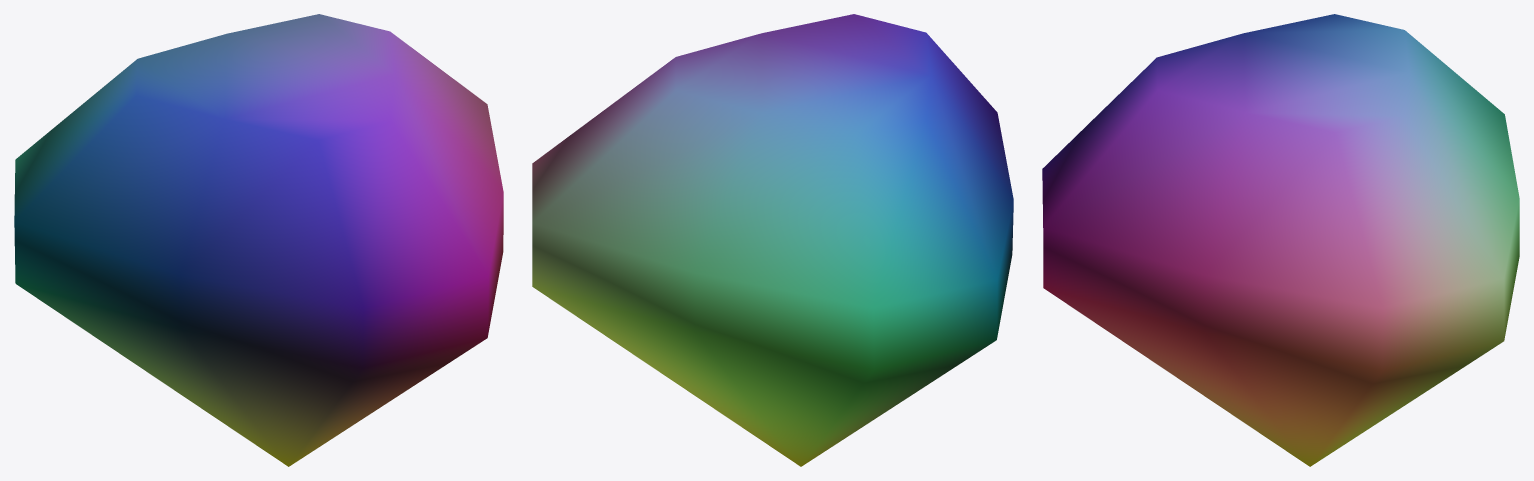
The model's file is SM_Pickup_Gem_Topaz_2.fbx.
3 renders of one model, left to right at view 1: azimuth 30°, elevation 25°; view 2: azimuth 150°, elevation 25°; view 3: azimuth 270°, elevation 25°, orthographic. The views are drawn at different scales.
Parts seen in each view (by area): view 1: SM_Pickup_Gem_Topaz_2; view 2: SM_Pickup_Gem_Topaz_2; view 3: SM_Pickup_Gem_Topaz_2.
Boxes of the visible parts, x1=… form: SM_Pickup_Gem_Topaz_2: x1=14, y1=14, x2=503, y2=466; SM_Pickup_Gem_Topaz_2: x1=532, y1=14, x2=1013, y2=466; SM_Pickup_Gem_Topaz_2: x1=1042, y1=14, x2=1519, y2=466.
Size of the model in its own units: 0.1148 by 0.0925 by 0.1028.
